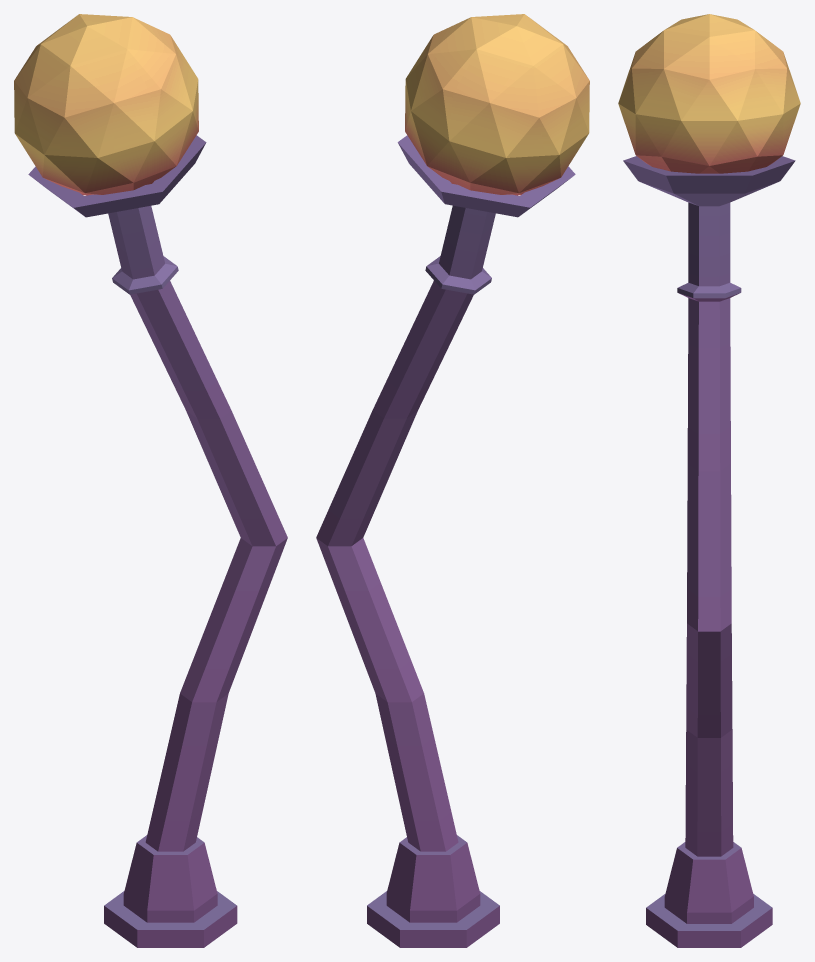
File: streetlamp_1.gltf
3 renders of one model, left to right at view 1: azimuth 30°, elevation 25°; view 2: azimuth 150°, elevation 25°; view 3: azimuth 270°, elevation 25°, orthographic. The views are drawn at different scales.
Parts seen in each view (by area): view 1: Object_37; view 2: Object_37; view 3: Object_37.
Boxes of the visible parts, x1,y1,x2,y2 form: Object_37: (14, 14, 287, 947); Object_37: (316, 14, 589, 947); Object_37: (618, 14, 800, 947).
Size of the model in its own units: 3.63 by 12.5 by 2.37.
1 material, 1 textured.
